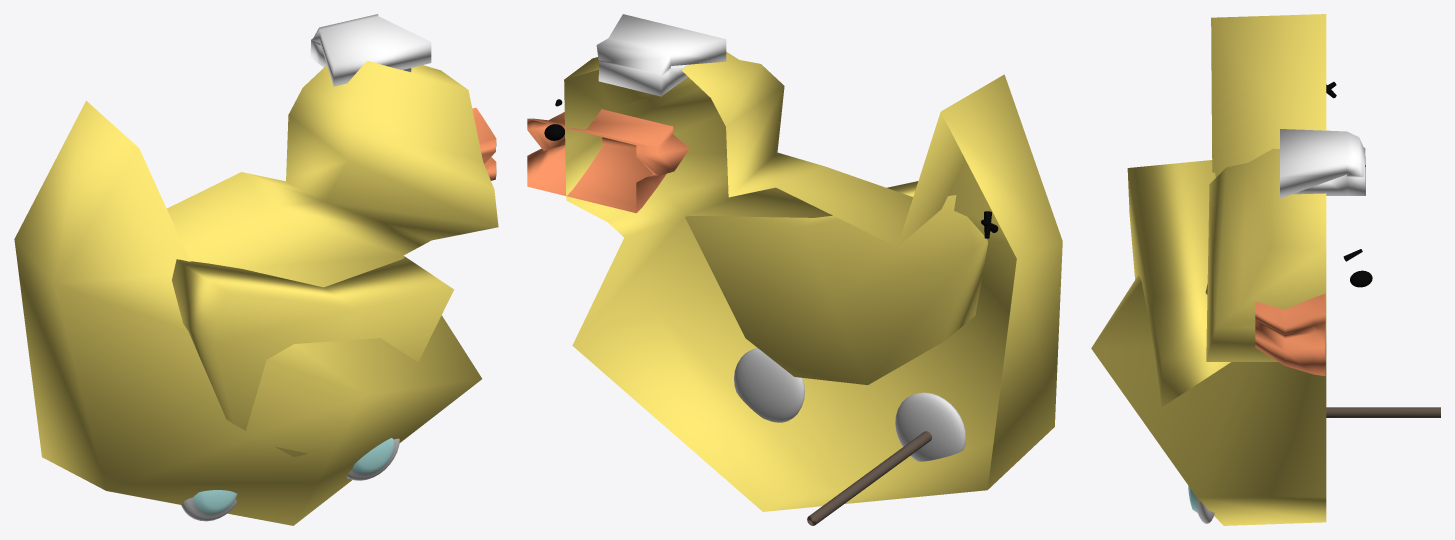
File: pukka.glb
3 renders of one model, left to right at view 1: azimuth 30°, elevation 25°; view 2: azimuth 150°, elevation 25°; view 3: azimuth 270°, elevation 25°, orthographic. The views are drawn at different scales.
Parts seen in each view (by area): view 1: body, 立方体.002, 立方体, 球.002, 球.001, 立方体.003; view 2: body, 立方体.002, 立方体.003, 立方体, 球.001, 球.002, 円柱.003; view 3: body, 立方体.002, 立方体, 立方体.003, 円柱.003.
Part boxes in pixels (box(x1,y1,x2,y2)): body: box(14, 61, 498, 525); 立方体.002: box(172, 256, 454, 456); 立方体: box(310, 14, 431, 86); 球.002: box(181, 490, 237, 521); 球.001: box(346, 438, 399, 480); 立方体.003: box(472, 107, 496, 180); body: box(564, 52, 1062, 511); 立方体.002: box(685, 181, 988, 384); 立方体.003: box(527, 109, 689, 213); 立方体: box(596, 14, 726, 96); 球.001: box(734, 348, 804, 422); 球.002: box(895, 392, 965, 461); 円柱.003: box(807, 431, 931, 525); body: box(1091, 14, 1326, 525); 立方体.002: box(1127, 160, 1230, 406); 立方体: box(1280, 129, 1365, 198); 立方体.003: box(1255, 293, 1325, 376); 円柱.003: box(1326, 407, 1440, 417).
Bounding box in the file's own units: 2.74 × 2.43 × 1.76.
8 materials, 1 textured.
